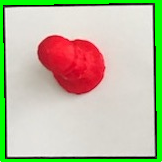Red Pawn: (35, 31, 111, 98)
